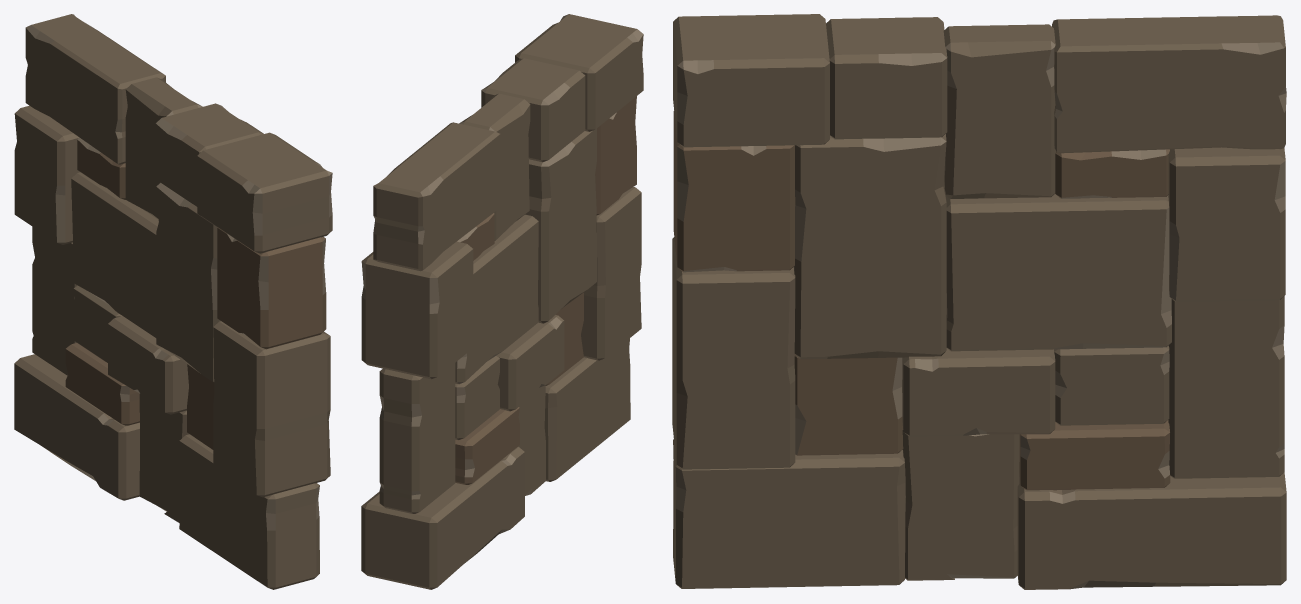
File: chamber_wall_west_7_lev3.glb
3 views of the same model, side by side, from view 1: azimuth 30°, elevation 25°; view 2: azimuth 150°, elevation 25°; view 3: azimuth 270°, elevation 25° (orthographic). The views are drawn at different scales.
Parts seen in each view (by area): view 1: chamber_wall_west_7_lev3; view 2: chamber_wall_west_7_lev3; view 3: chamber_wall_west_7_lev3.
Boxes of the visible parts, x1,y1,x2,y2 form: chamber_wall_west_7_lev3: [14, 14, 332, 589]; chamber_wall_west_7_lev3: [361, 14, 643, 589]; chamber_wall_west_7_lev3: [672, 14, 1286, 589].
Size of the model in its own units: 1.46 by 5.96 by 6.17.
